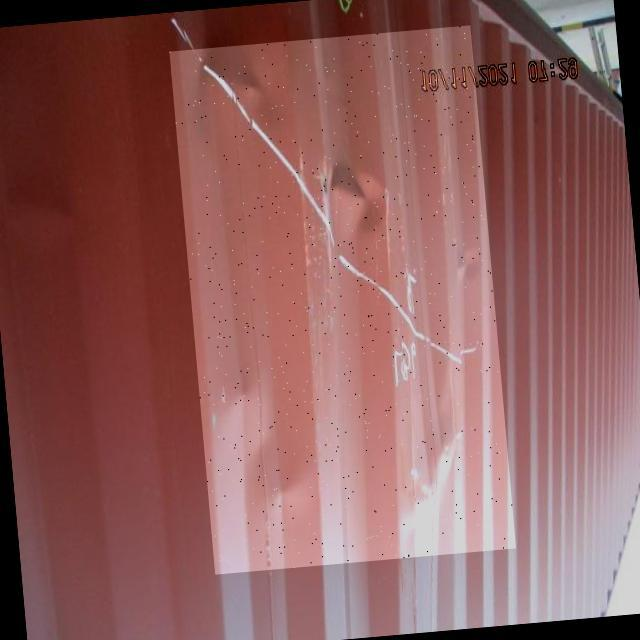Dent: (169, 25, 516, 574)
